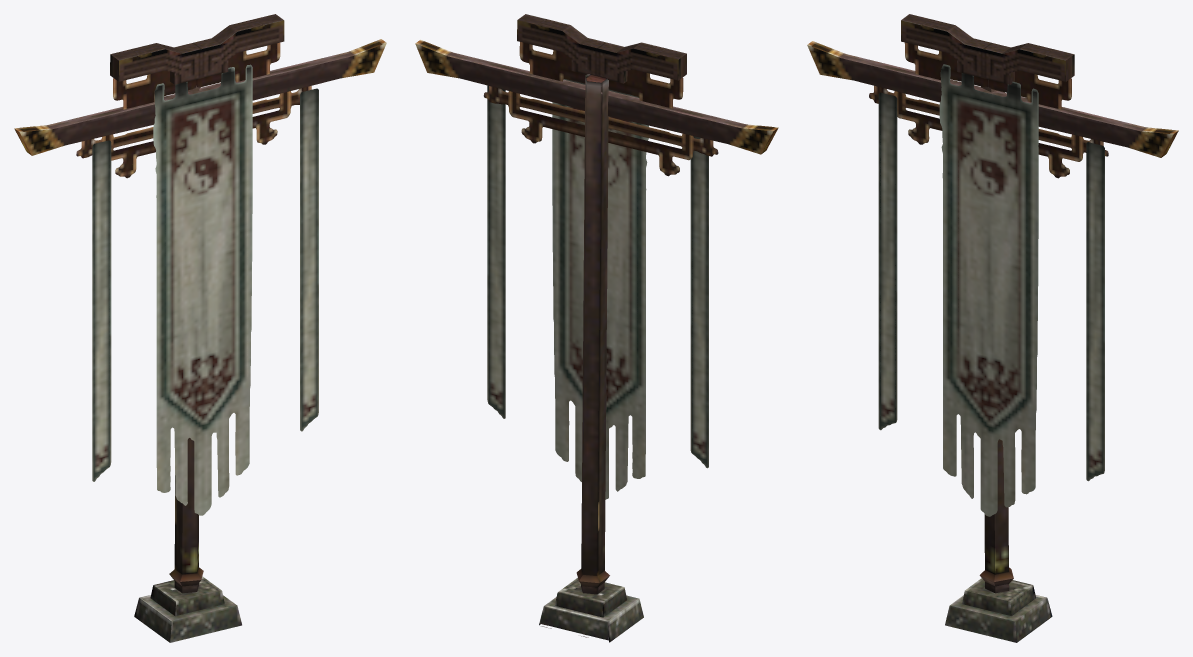
The model's file is d_lianqi_qizi01_qt.FBX.
The picture shows the model from 3 angles, left to right: view 1: azimuth 30°, elevation 25°; view 2: azimuth 150°, elevation 25°; view 3: azimuth 330°, elevation 25°; orthographic projection. The views are drawn at different scales.
Visible parts, largest first — view 1: d_lianqi_qizi01_qt_01A; view 2: d_lianqi_qizi01_qt_01A; view 3: d_lianqi_qizi01_qt_01A.
Boxes of the visible parts, bbox=[...] form: d_lianqi_qizi01_qt_01A: bbox=[14, 14, 386, 642]; d_lianqi_qizi01_qt_01A: bbox=[415, 14, 778, 642]; d_lianqi_qizi01_qt_01A: bbox=[807, 14, 1178, 642].
Bounding box in the file's own units: 130 × 200 × 22.01.
